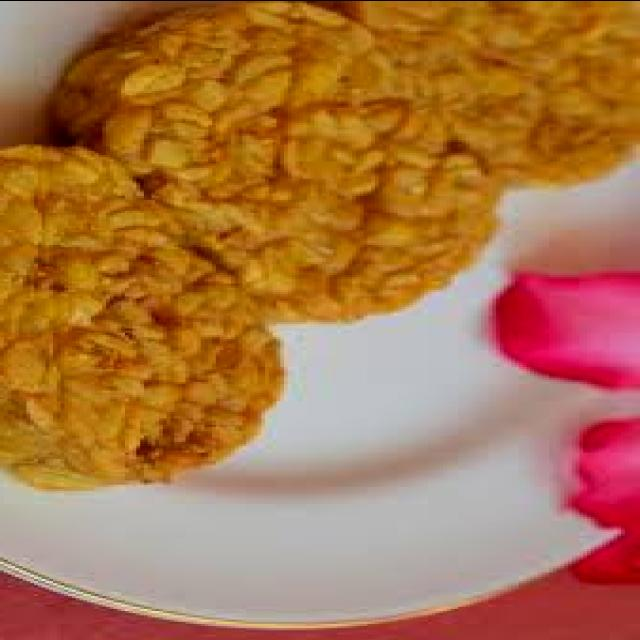tempe goreng: (92, 1, 521, 338), (0, 148, 292, 492)
